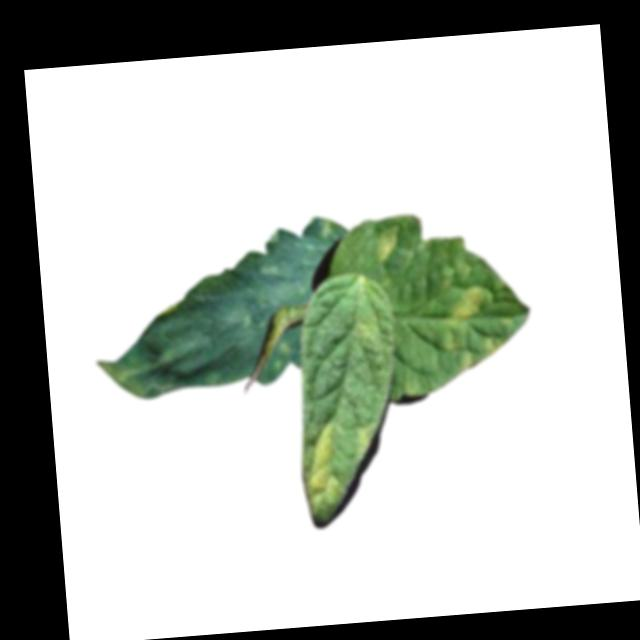Leaf_Mold: (82, 216, 356, 401), (299, 419, 350, 509), (446, 284, 488, 322), (367, 223, 398, 265)
